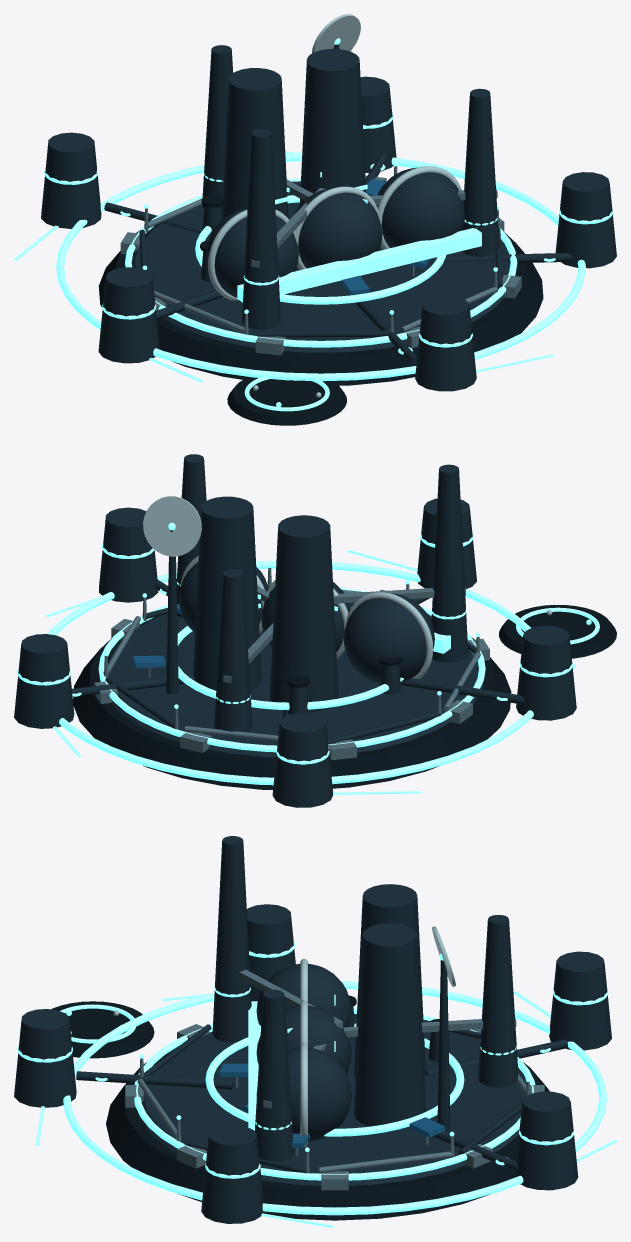
File: deuteriumSynthesizer-stage3.glb
3 views of the same model, one above another, from view 1: azimuth 30°, elevation 25°; view 2: azimuth 150°, elevation 25°; view 3: azimuth 270°, elevation 25° (orthographic). The views are drawn at different scales.
Visible parts, largest first — view 1: upper-deck, cryogenic-tower (×2), pressure-vessel (×3), armored-foundation, district-grid-2, processing-tower-1, refinery-annex-1, refinery-annex-2, refinery-annex-3, refinery-annex-0, processing-tower-0, landing-pad (+15 smaller); view 2: cryogenic-tower (×2), upper-deck, armored-foundation, pressure-vessel (×3), district-grid-2, processing-tower-1, processing-tower-2, refinery-annex-3, refinery-annex-4, refinery-annex-2, refinery-annex-0, landing-pad (+18 smaller); view 3: upper-deck, cryogenic-tower (×2), armored-foundation, pressure-vessel (×3), district-grid-2, processing-tower-1, processing-tower-2, processing-tower-0, refinery-annex-0, refinery-annex-4, refinery-annex-1, refinery-annex-3 (+15 smaller).
Part boxes in pixels (x1,y1,x2,y2): upper-deck: [131, 192, 515, 352]; cryogenic-tower (×2): [222, 49, 365, 219]; pressure-vessel (×3): [206, 167, 464, 297]; armored-foundation: [98, 224, 543, 385]; district-grid-2: [56, 153, 585, 381]; processing-tower-1: [242, 128, 280, 329]; refinery-annex-1: [415, 295, 476, 391]; refinery-annex-2: [98, 267, 159, 363]; refinery-annex-3: [41, 132, 101, 228]; refinery-annex-0: [555, 172, 616, 268]; processing-tower-0: [462, 88, 499, 256]; landing-pad: [227, 370, 346, 425]; cryogenic-tower (×2): [193, 496, 338, 712]; upper-deck: [100, 602, 483, 757]; armored-foundation: [73, 615, 511, 789]; pressure-vessel (×3): [179, 562, 434, 683]; district-grid-2: [47, 561, 533, 785]; processing-tower-1: [431, 464, 468, 662]; processing-tower-2: [214, 569, 252, 732]; refinery-annex-3: [272, 713, 332, 807]; refinery-annex-4: [14, 634, 74, 728]; refinery-annex-2: [516, 625, 576, 720]; refinery-annex-0: [99, 507, 158, 602]; landing-pad: [499, 604, 616, 658]; upper-deck: [136, 1014, 526, 1185]; cryogenic-tower (×2): [354, 884, 425, 1127]; armored-foundation: [106, 1014, 549, 1220]; pressure-vessel (×3): [256, 963, 351, 1141]; district-grid-2: [63, 981, 606, 1215]; processing-tower-1: [212, 836, 251, 1042]; processing-tower-2: [478, 915, 518, 1087]; processing-tower-0: [255, 989, 293, 1161]; refinery-annex-0: [201, 1125, 263, 1223]; refinery-annex-4: [515, 1091, 578, 1190]; refinery-annex-1: [14, 1009, 76, 1107]; refinery-annex-3: [549, 951, 611, 1050].
Bounding box in the file's own units: 13.93 × 5.92 × 14.1.
